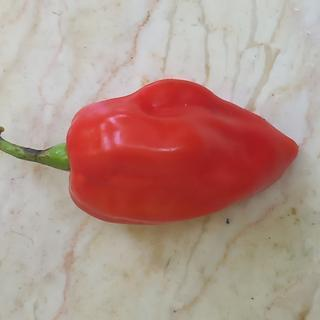Grade-A: (63, 72, 304, 225)
